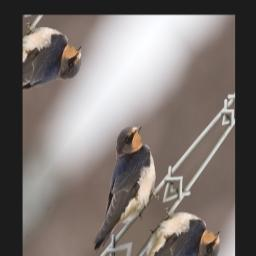Swallow: (61, 113, 178, 256)
